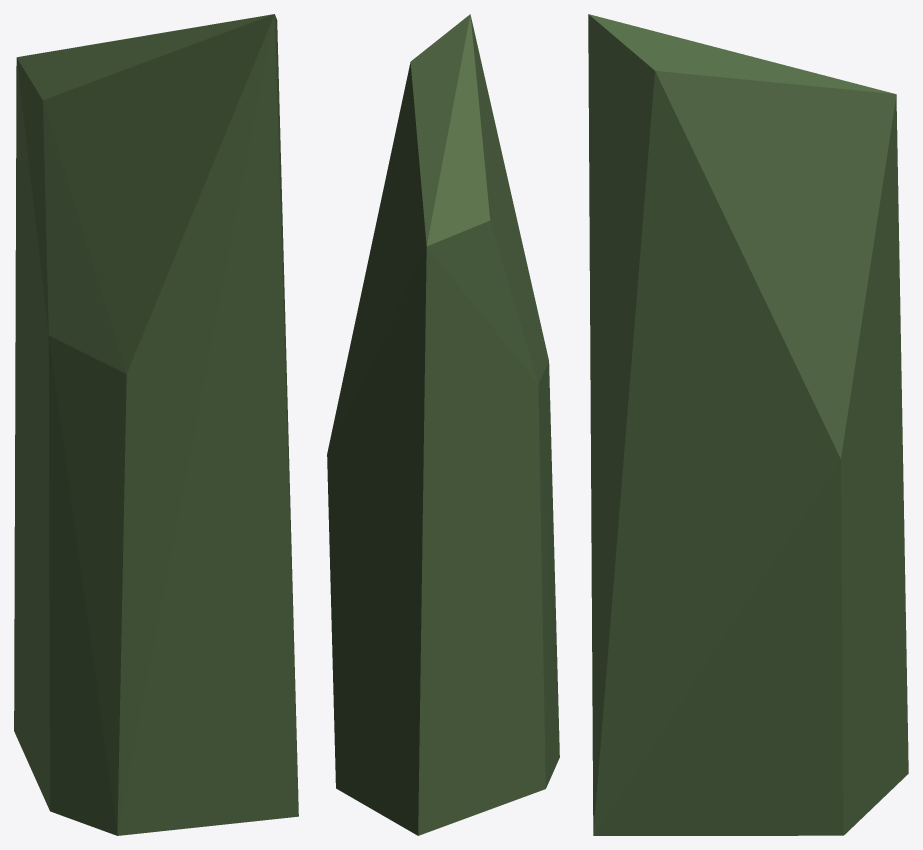
Rendered from Grass_2.lod4.glb.
3 renders of one model, left to right at view 1: azimuth 30°, elevation 25°; view 2: azimuth 150°, elevation 25°; view 3: azimuth 270°, elevation 25°, orthographic. The views are drawn at different scales.
Parts seen in each view (by area): view 1: Grass_2; view 2: Grass_2; view 3: Grass_2.
Part boxes in pixels (x1,y1,x2,y2): Grass_2: (14,14,298,835); Grass_2: (327,14,559,835); Grass_2: (588,14,908,835).
Size of the model in its own units: 0.3044 by 1.21 by 0.4331.
